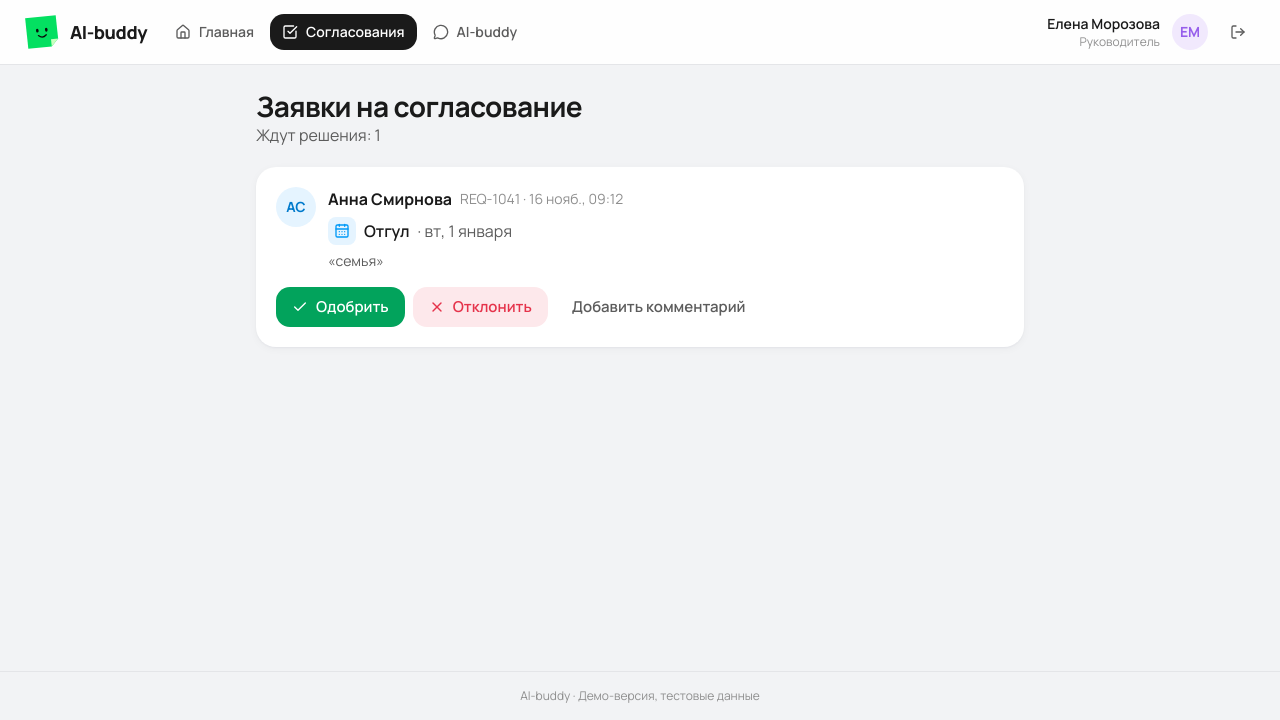
Test: ApprovalsPage › одобрение — карточка исчезает сразу, статус в базе меняется
Expected: the text "«семья»" is shown, [328,251,384,270]
Click the button "Одобрить": [340, 307] box [276,287,405,327]
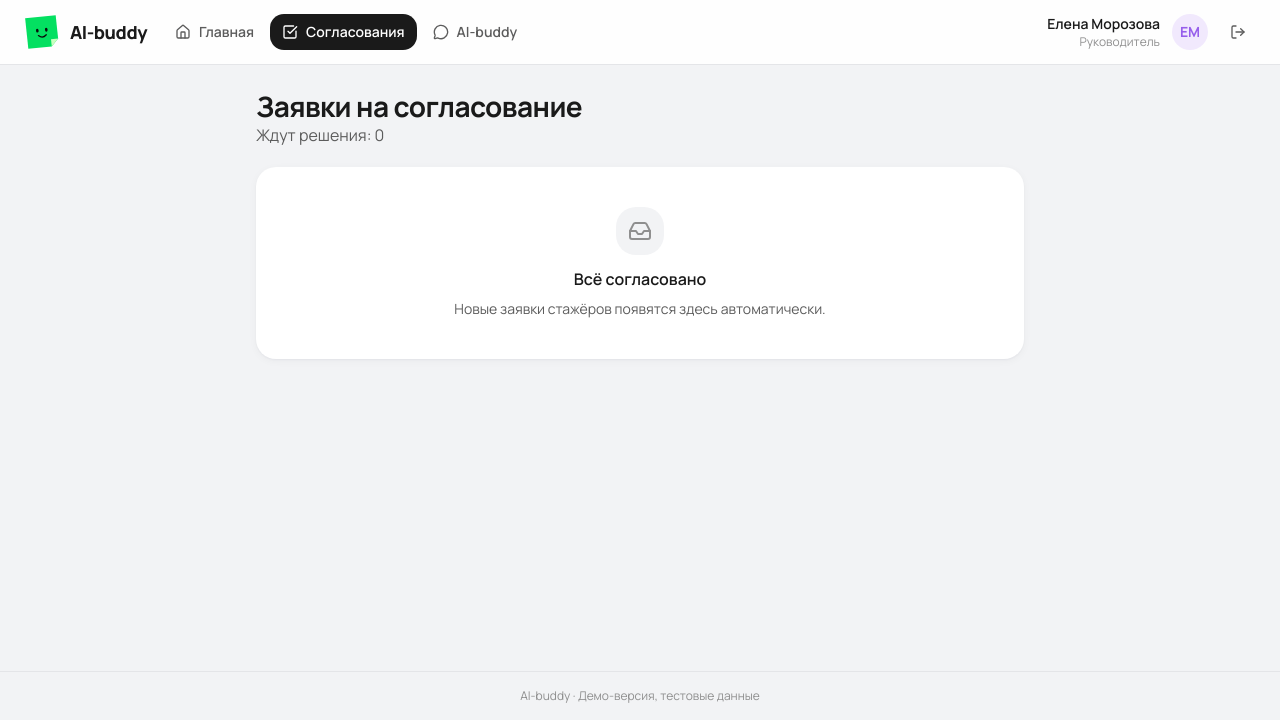
Expected: the text "«семья»" is gone
Expected: the text "Всё согласовано" is shown, [574,267,706,291]
